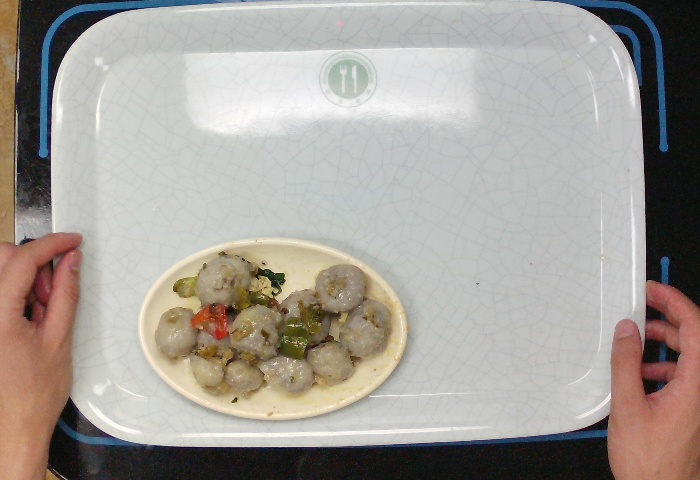JYsf-Tuo_Yuan_Wan: (133, 237, 413, 426)
